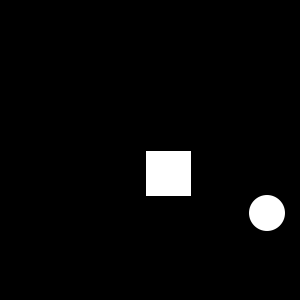circle: (146, 151, 191, 196)
rectangle: (249, 195, 285, 231)
